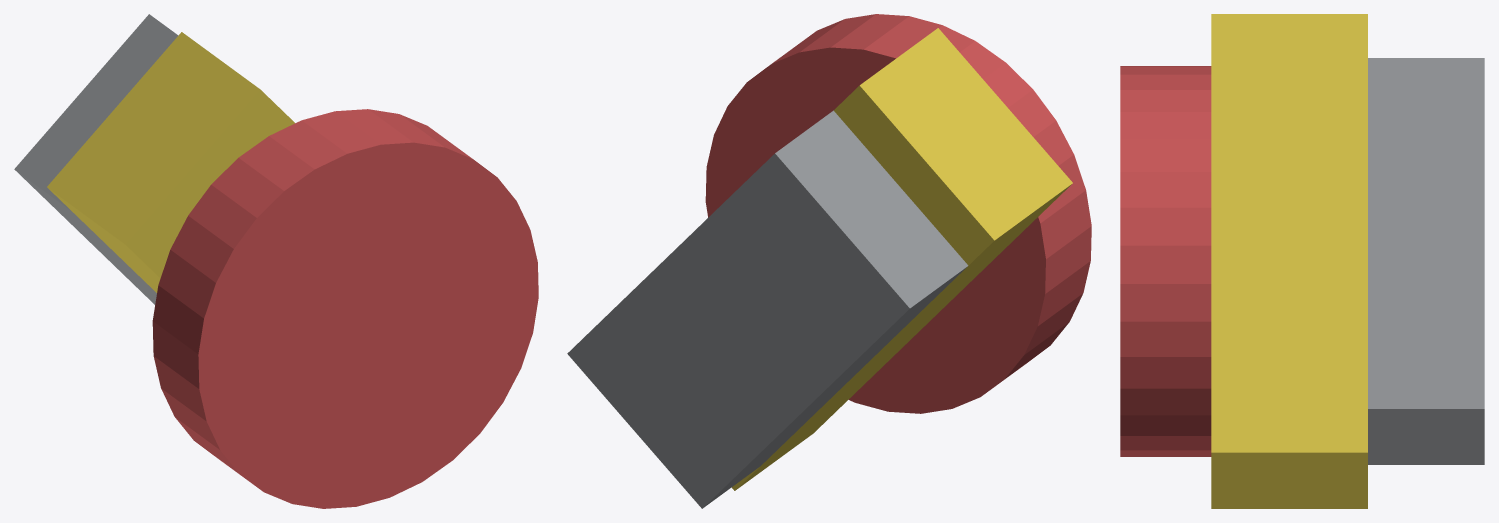
File: entity-emergency-button.glb
3 renders of one model, left to right at view 1: azimuth 30°, elevation 25°; view 2: azimuth 150°, elevation 25°; view 3: azimuth 270°, elevation 25°, orthographic.
Parts seen in each view (by area): view 1: geometry_0; view 2: geometry_0; view 3: geometry_0.
Boxes of the visible parts, x1,y1,x2,y2 form: geometry_0: [14, 14, 538, 508]; geometry_0: [567, 14, 1091, 508]; geometry_0: [1120, 14, 1484, 508].
Size of the model in its own units: 0.2087 by 0.2204 by 0.1676.
